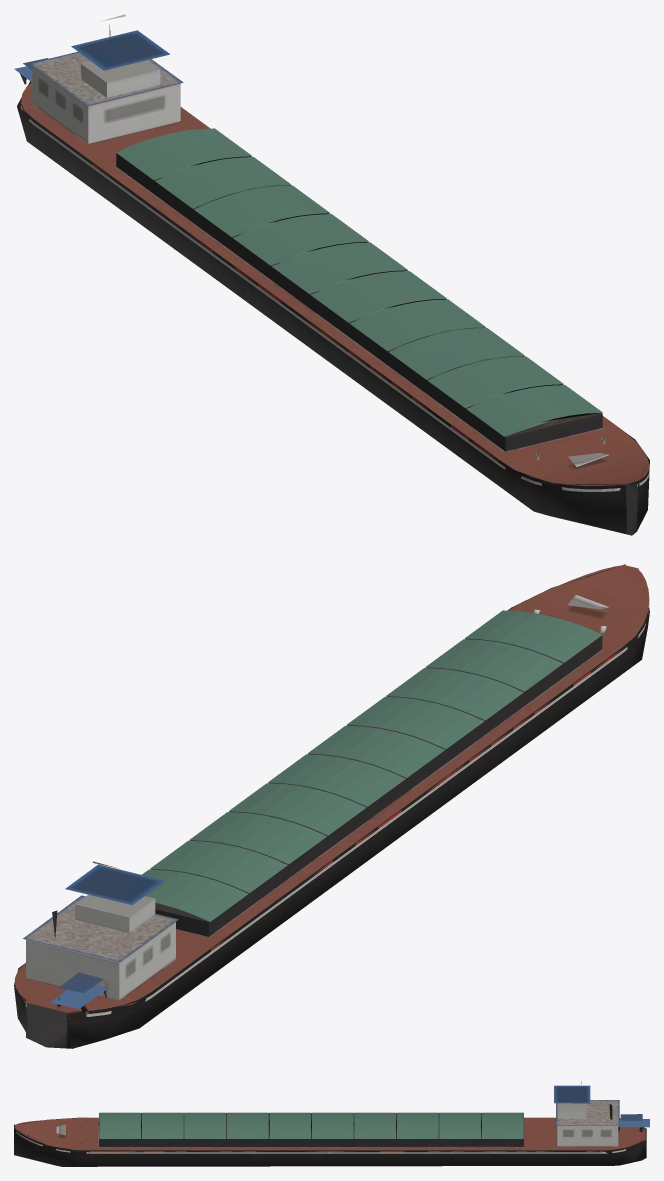
Rendered from river-barge-lod1.glb.
3 renders of one model, top to bottom at view 1: azimuth 30°, elevation 25°; view 2: azimuth 150°, elevation 25°; view 3: azimuth 270°, elevation 25°, orthographic. The views are drawn at different scales.
Visible parts, largest first — view 1: river-barge-0.001; view 2: river-barge-0.001; view 3: river-barge-0.001.
Part boxes in pixels (x1=…): river-barge-0.001: x1=14, y1=14, x2=649, y2=535; river-barge-0.001: x1=14, y1=564, x2=649, y2=1048; river-barge-0.001: x1=14, y1=1081, x2=649, y2=1166.
Bounding box in the file's own units: 8.22 × 8.76 × 67.34.
1 material, 1 textured.
